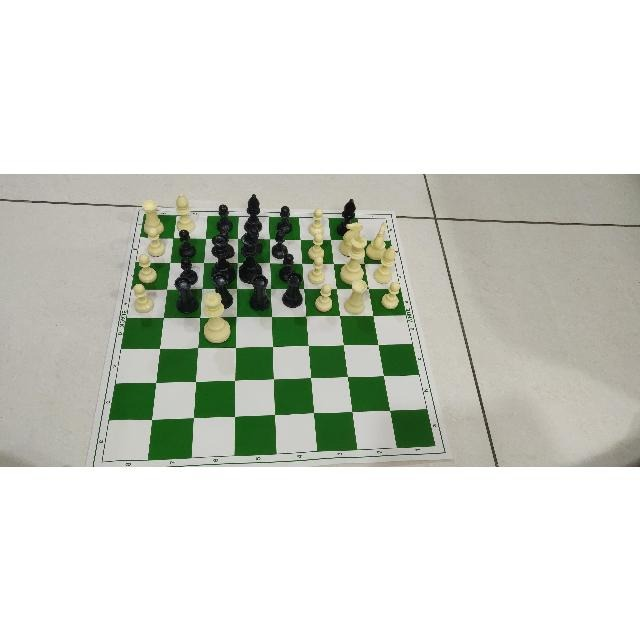black-bishop: (241, 191, 264, 233), (335, 196, 357, 236)
black-king: (237, 232, 265, 284)
black-pawn: (279, 253, 297, 281), (178, 229, 195, 257), (181, 255, 197, 284), (272, 230, 288, 258), (217, 203, 233, 231), (219, 229, 235, 257), (277, 205, 292, 233), (248, 225, 262, 252)
black-queen: (208, 233, 235, 283)
black-rook: (175, 275, 199, 312), (211, 271, 233, 308), (249, 273, 270, 310), (282, 271, 302, 306)
white-bishop: (373, 244, 397, 284), (175, 191, 197, 233)
white-king: (339, 233, 368, 285)
white-knight: (336, 219, 365, 257), (365, 219, 389, 260)
white-pawn: (132, 281, 155, 312), (138, 252, 158, 284), (146, 225, 166, 256), (314, 282, 334, 312), (307, 231, 327, 261), (381, 279, 401, 308), (307, 255, 327, 284), (307, 207, 325, 235)
white-queen: (201, 292, 232, 344)
white-rook: (343, 278, 369, 314), (141, 197, 165, 234)
